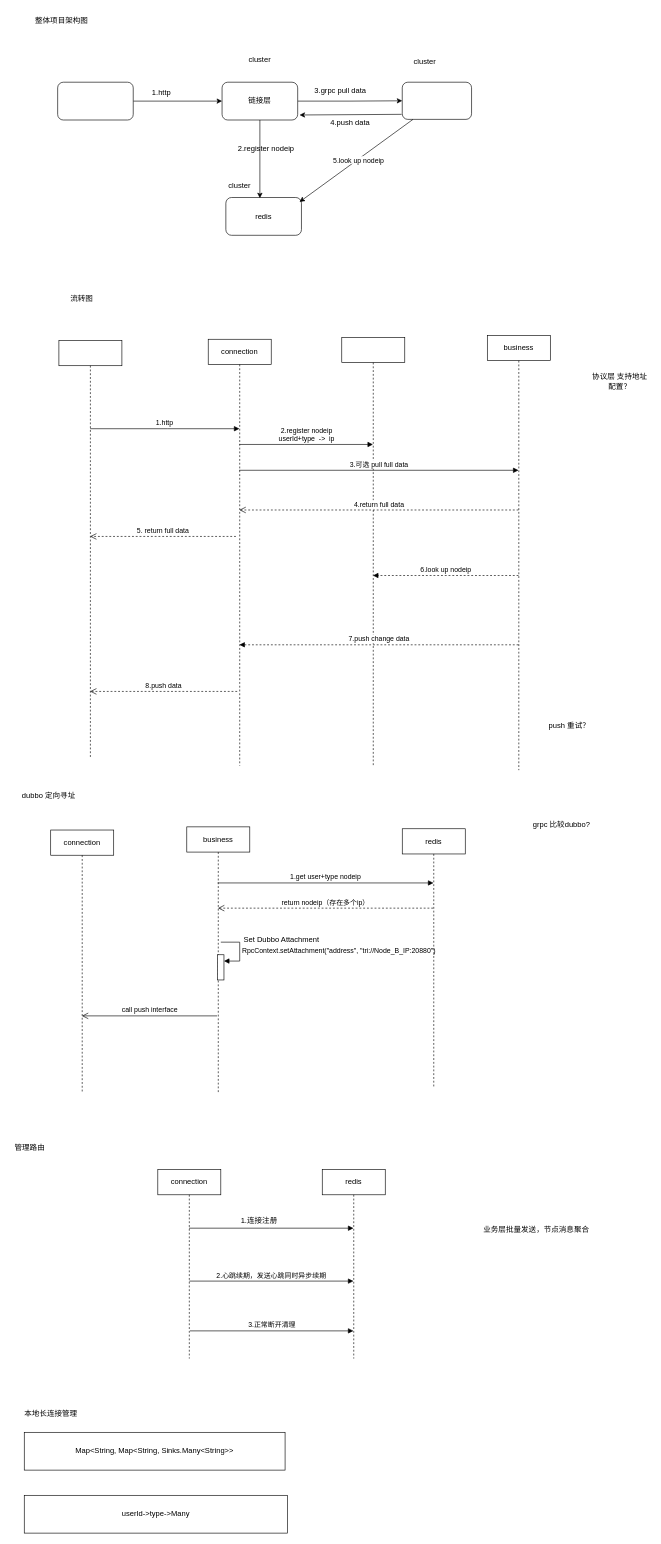
The diagram is 661 pixels wide and 1544 high, and some of its shapes have lost their labels. Each missing label, with the box of its shape:
client: (58, 340, 122, 758)
reids: (341, 337, 405, 766)
业务层: (402, 82, 472, 119)
客户端: (57, 82, 133, 120)
